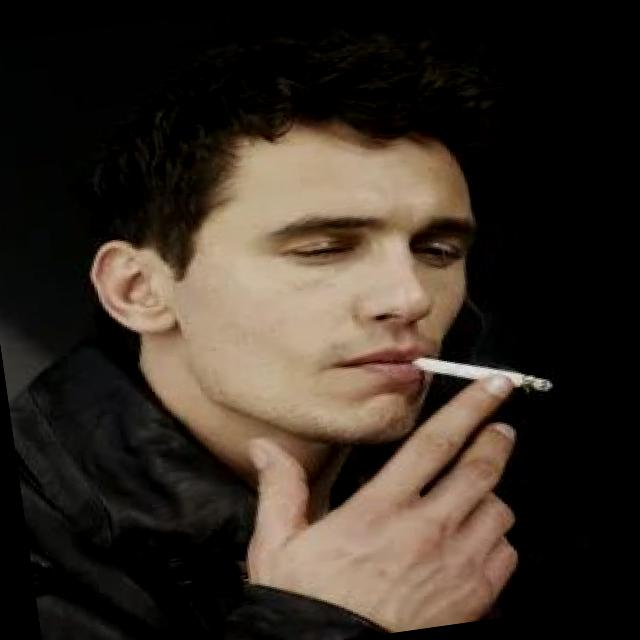cigarette: (409, 338, 570, 418)
